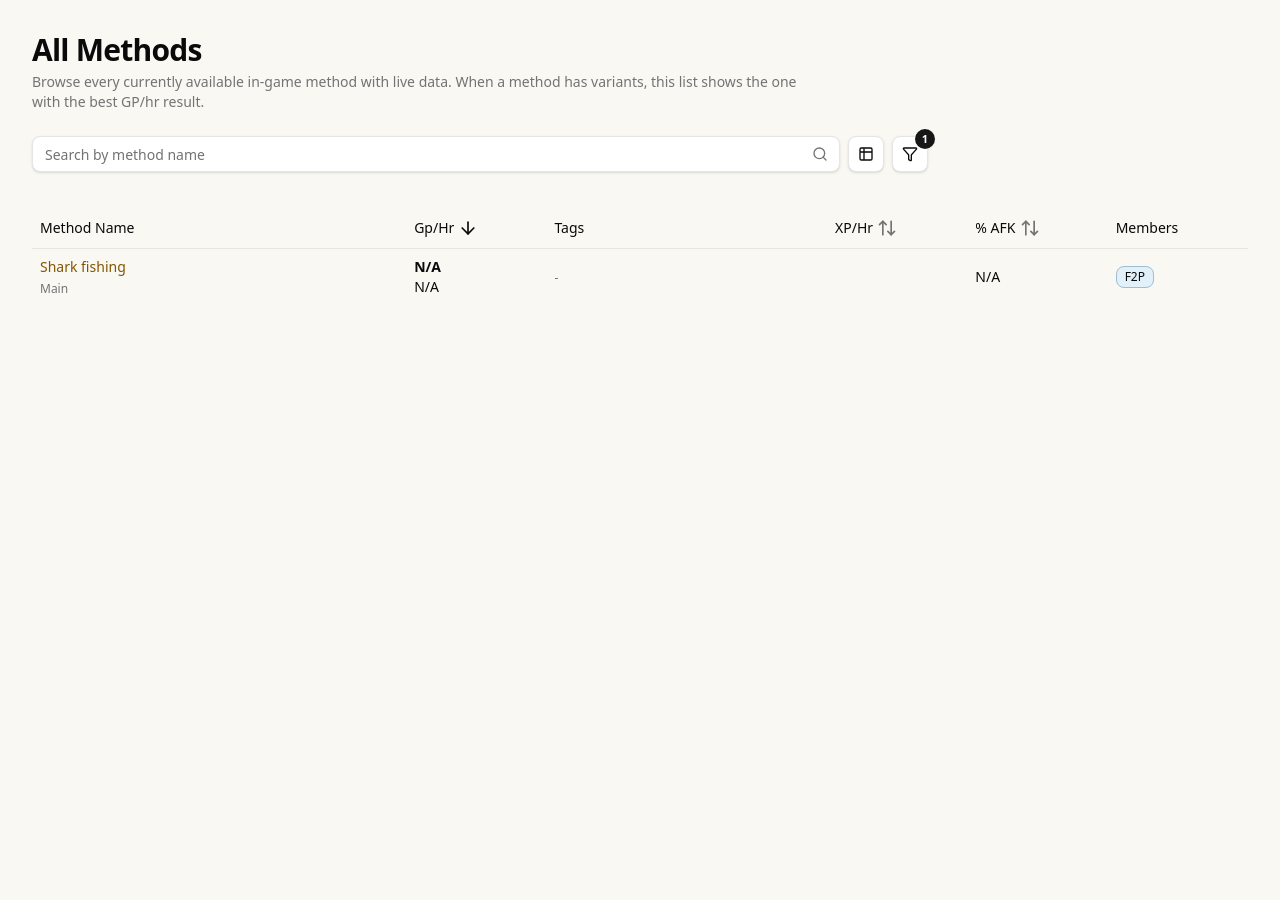
Test: critical flow: list render + filters › lets users toggle username-based filtering on and off
The width and height of the screenshot is (1280, 900).
Expected: the link "Shark fishing" is shown, left=40, top=256, right=126, bottom=276
Click the button named "show filters" at (910, 154), box left=892, top=136, right=928, bottom=172
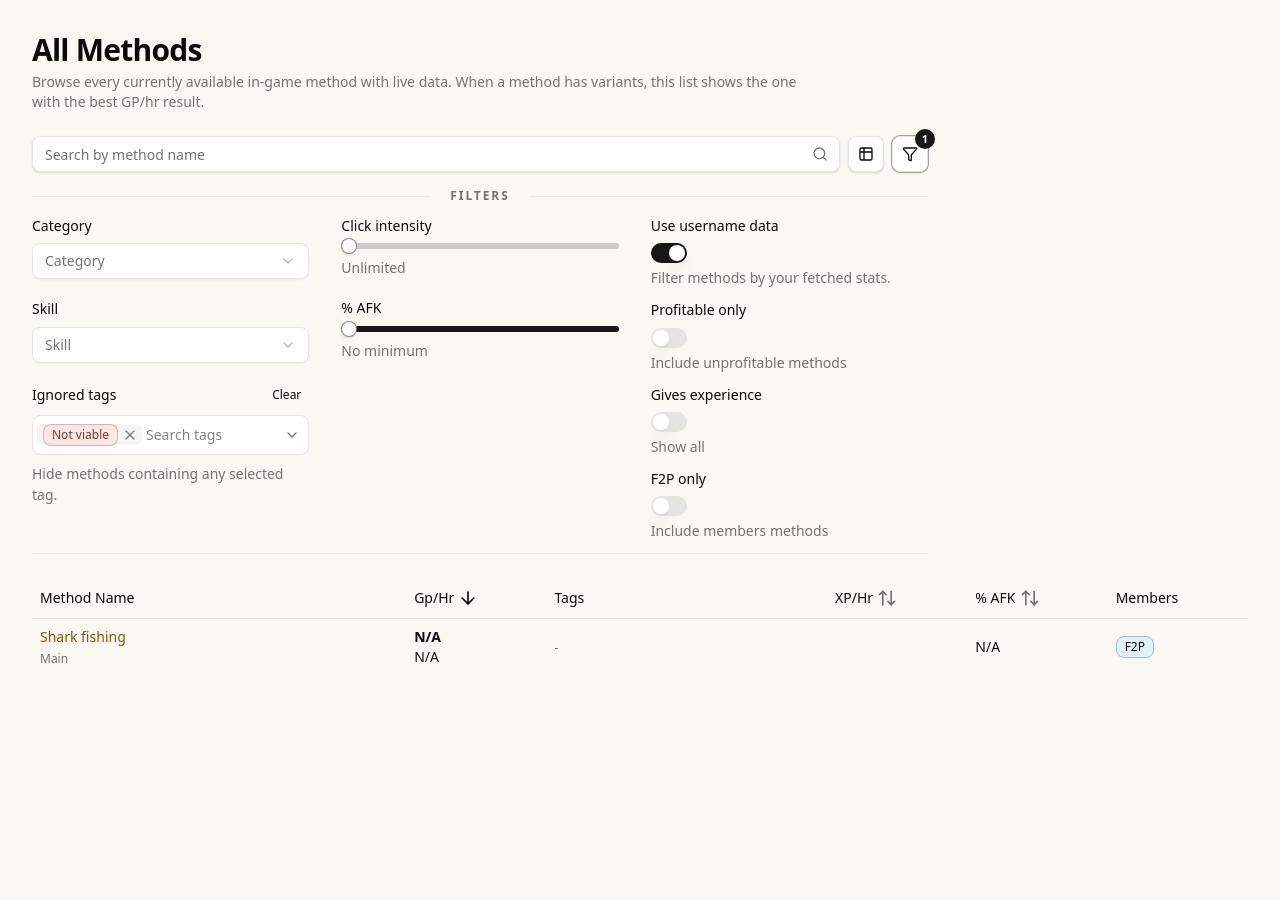
Now the text "Filter methods by your fetched stats." is shown, box left=651, top=267, right=928, bottom=288
Click the switch named "use username data" at (669, 253), box left=651, top=243, right=687, bottom=263
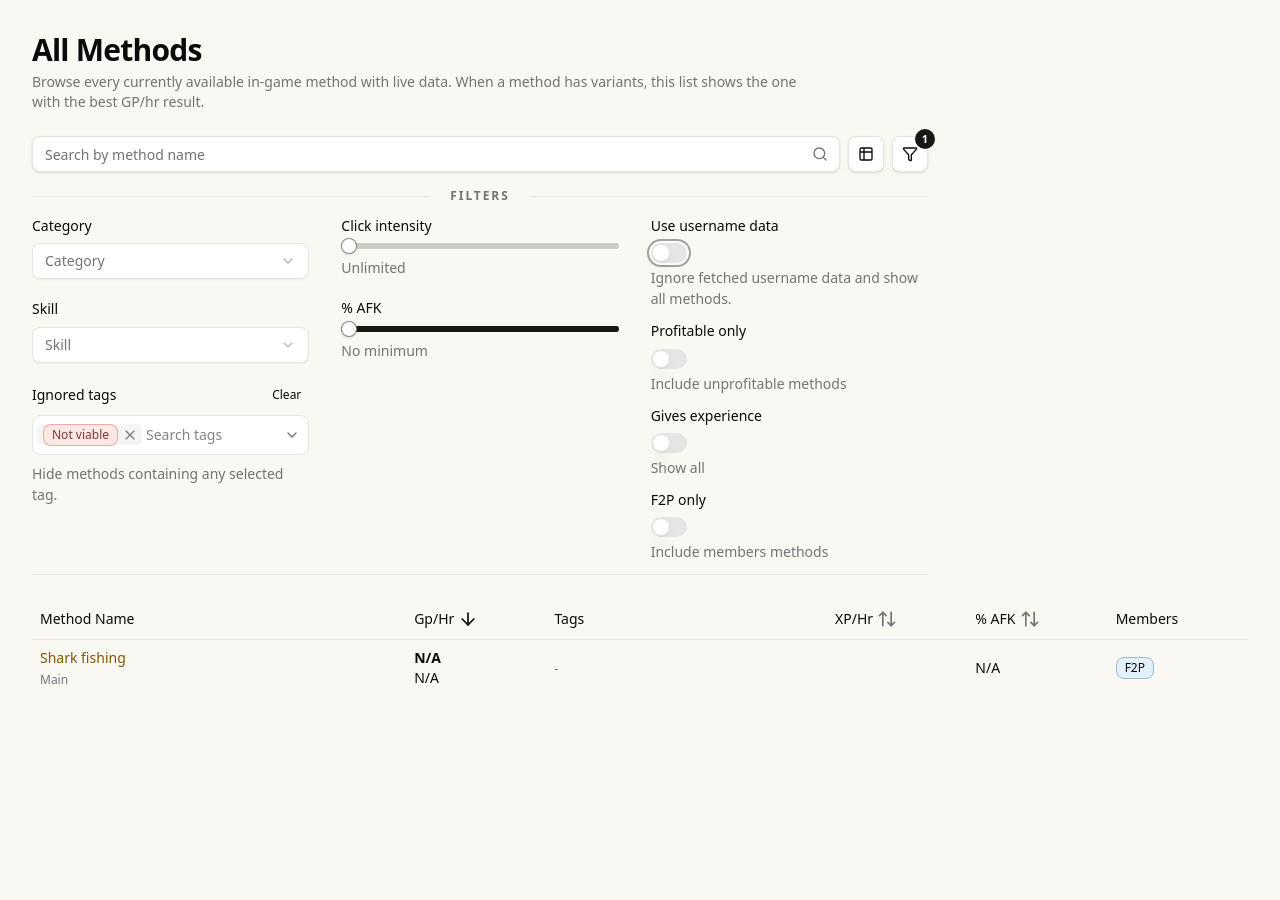
Now the text "Ignore fetched username data and show all methods." is shown, box left=651, top=267, right=928, bottom=309
Click the switch named "use username data" at (669, 253), box left=651, top=243, right=687, bottom=263
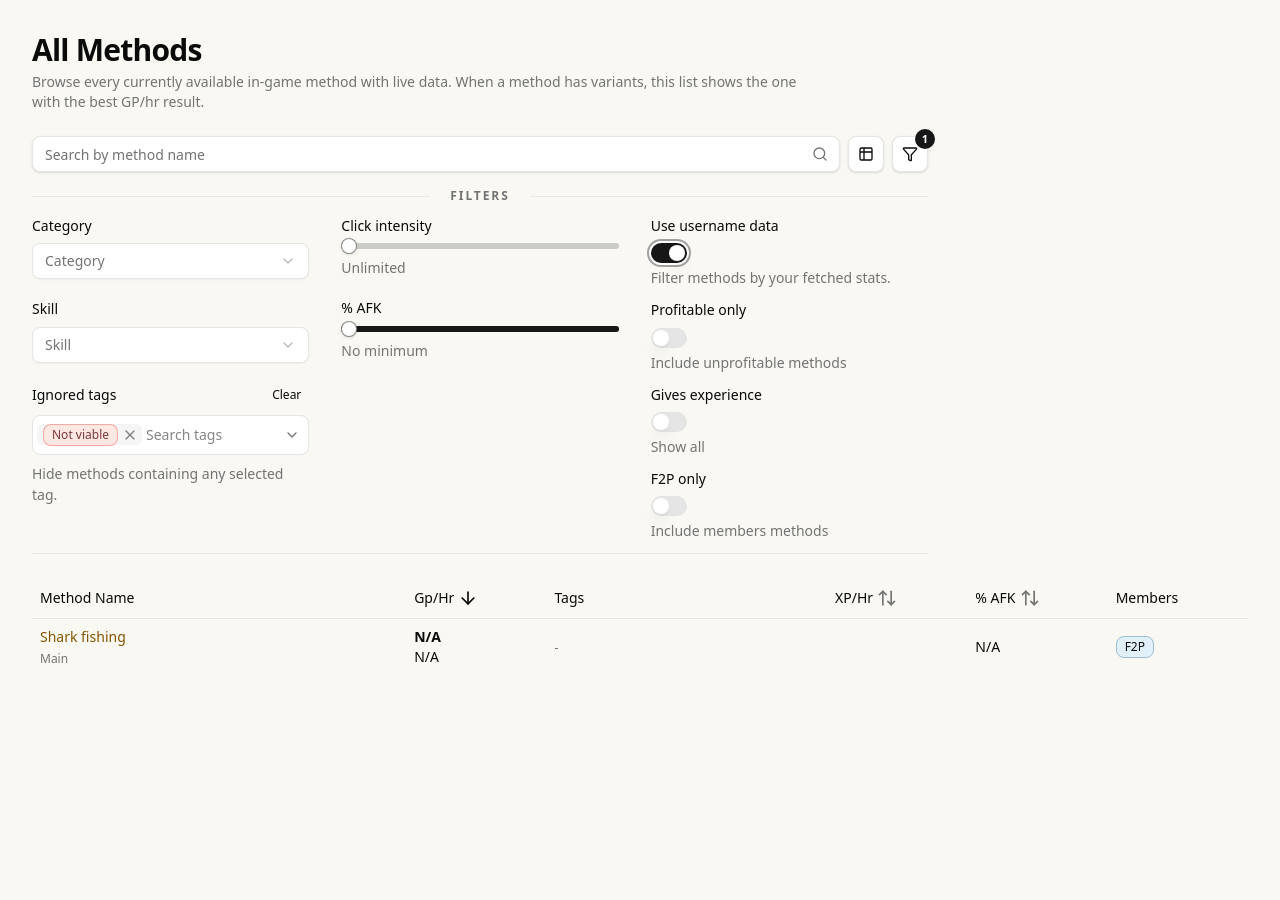
Now the text "Filter methods by your fetched stats." is shown, box left=651, top=267, right=928, bottom=288
